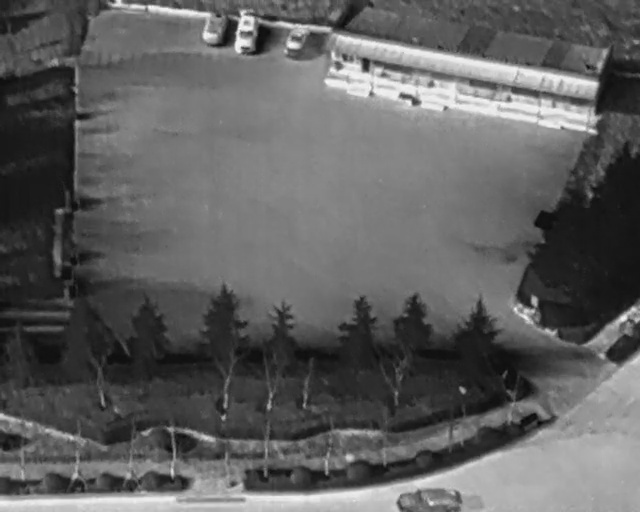Car: (397, 488, 466, 512), (232, 10, 262, 57), (199, 8, 229, 50), (280, 24, 312, 61)
